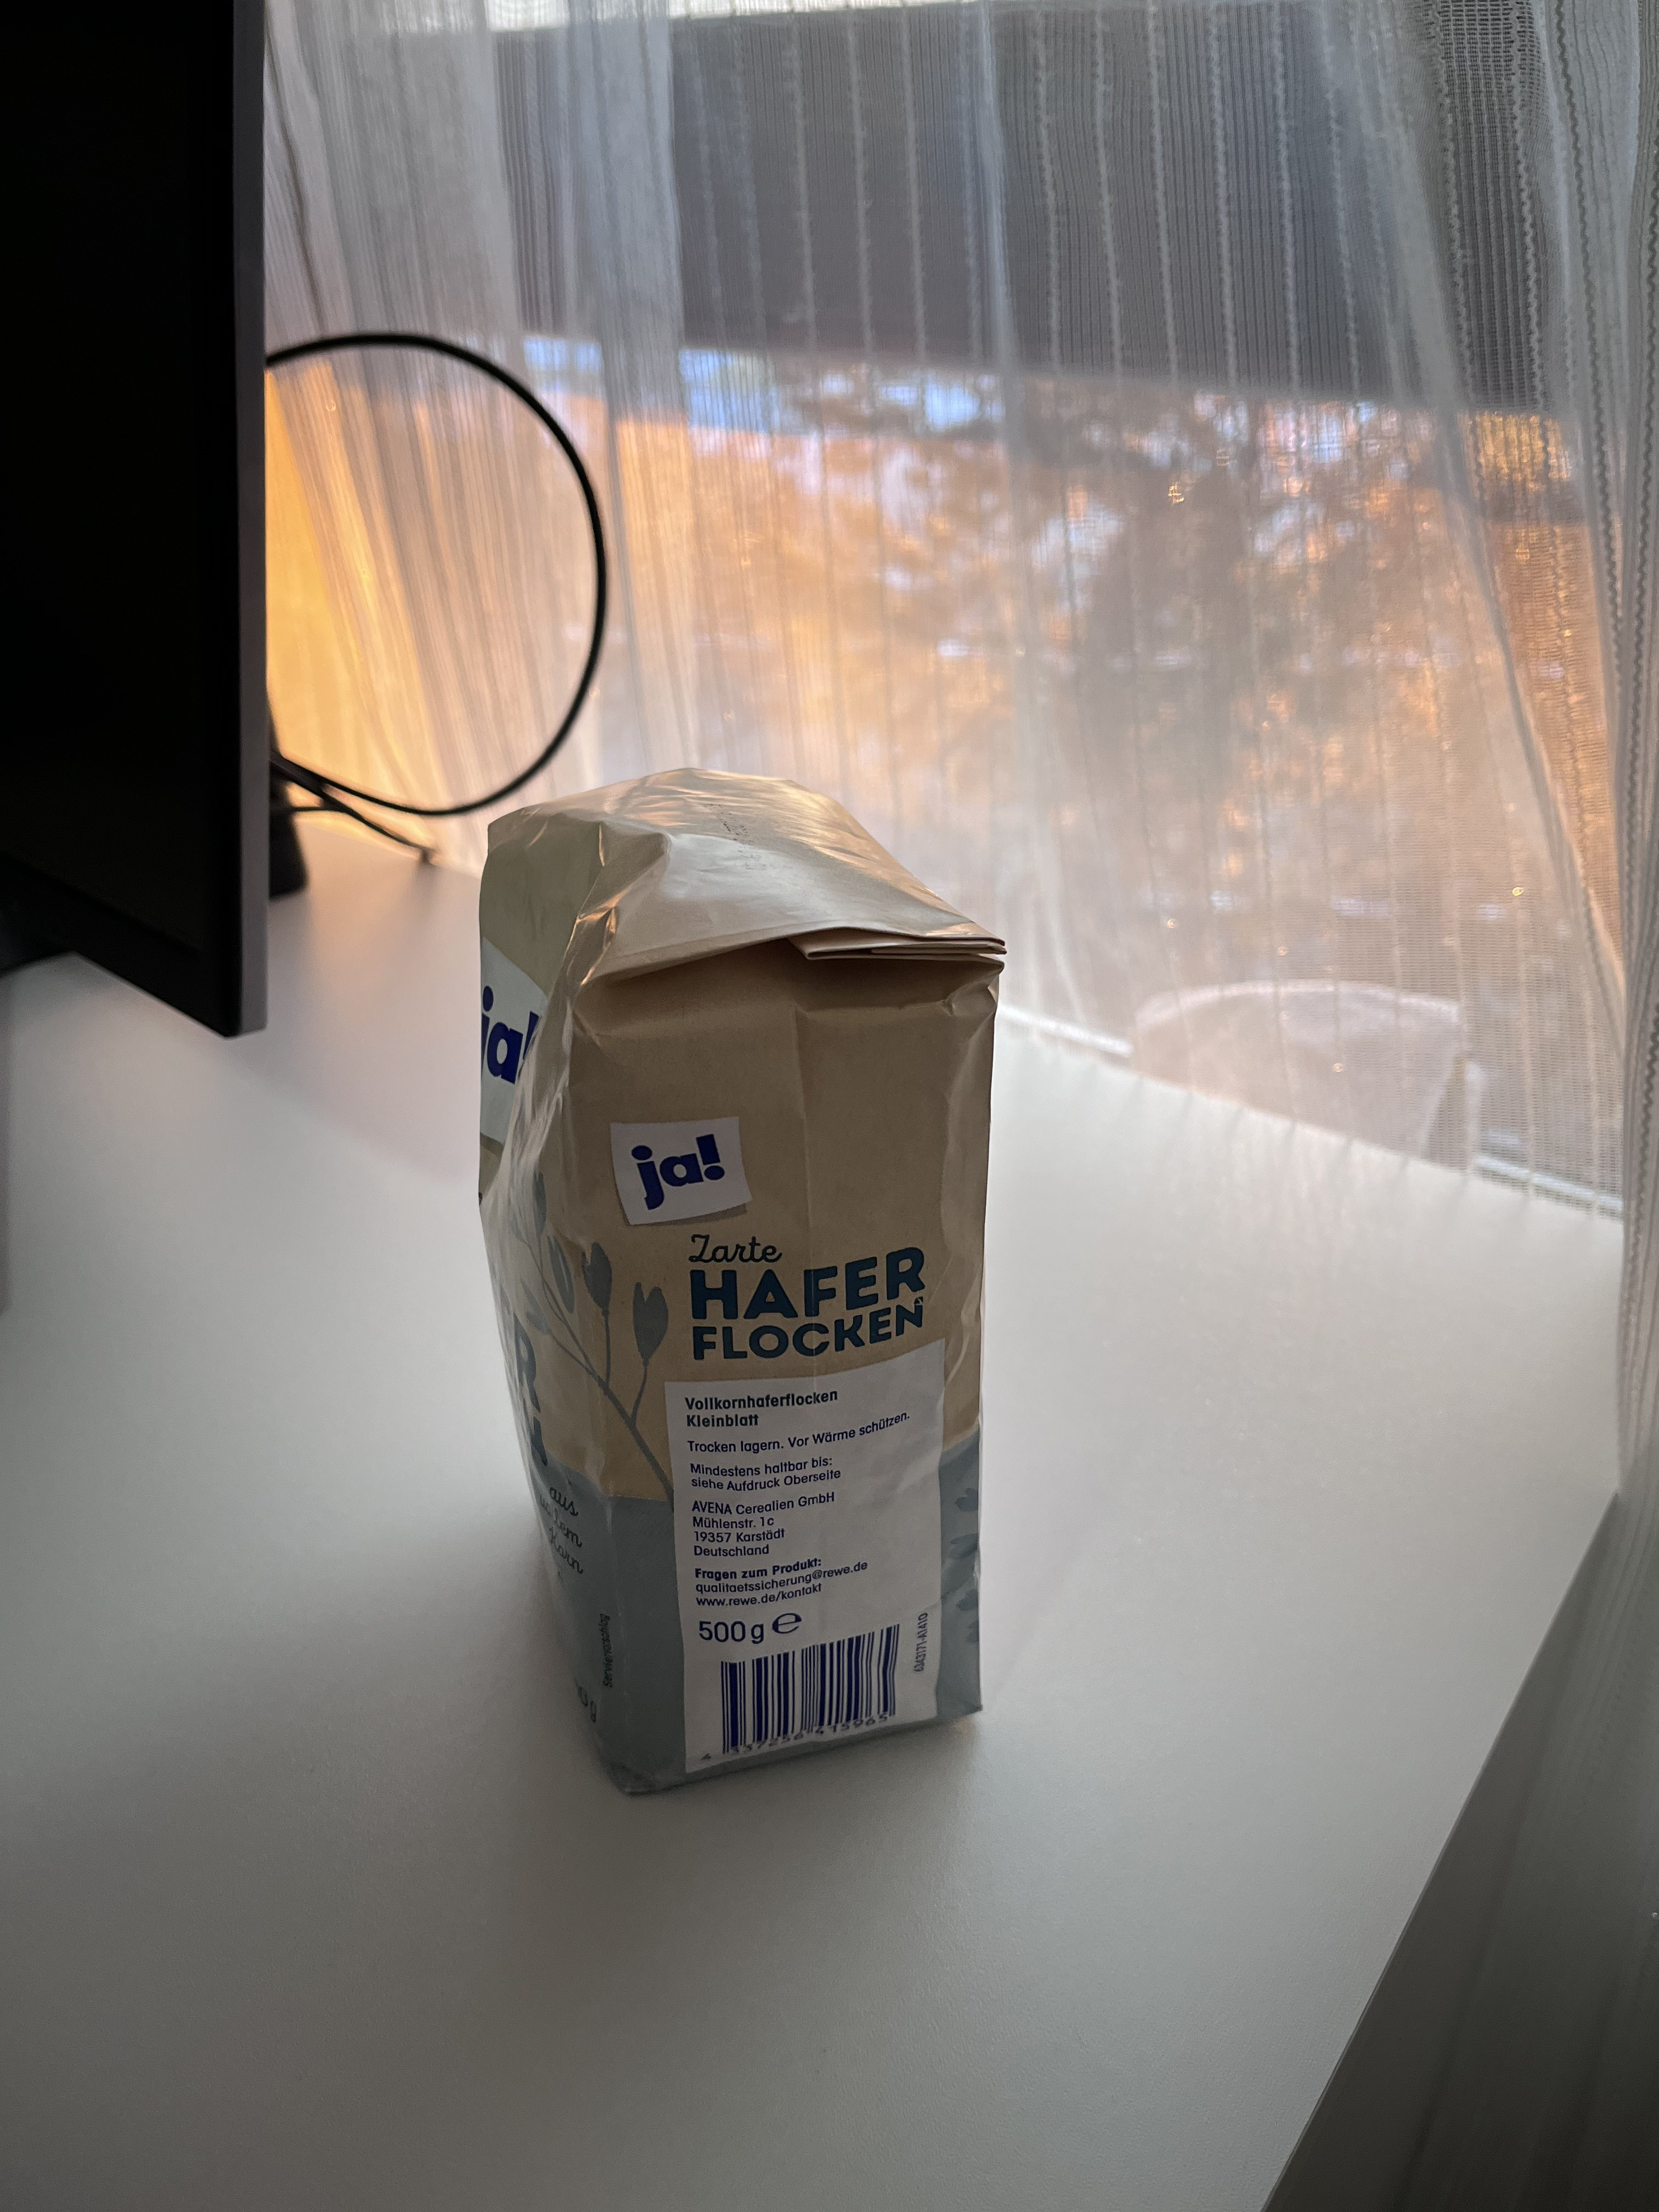haferflocken_ja: (476, 765, 1007, 1803)
